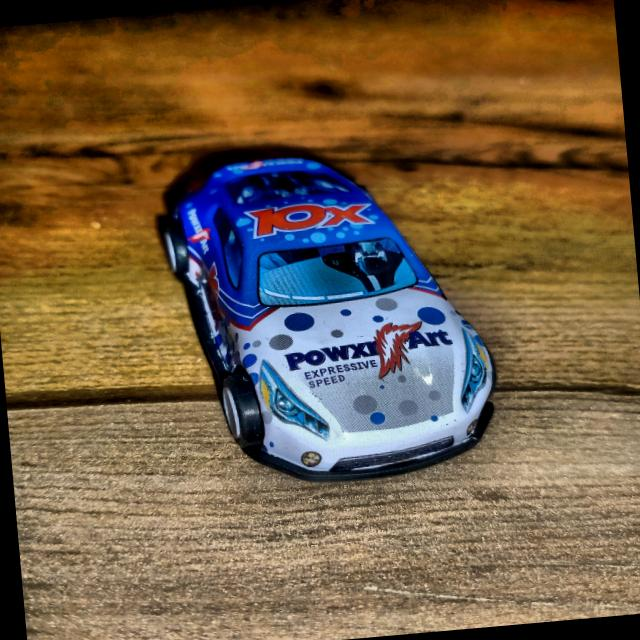Car: (153, 133, 503, 494)
